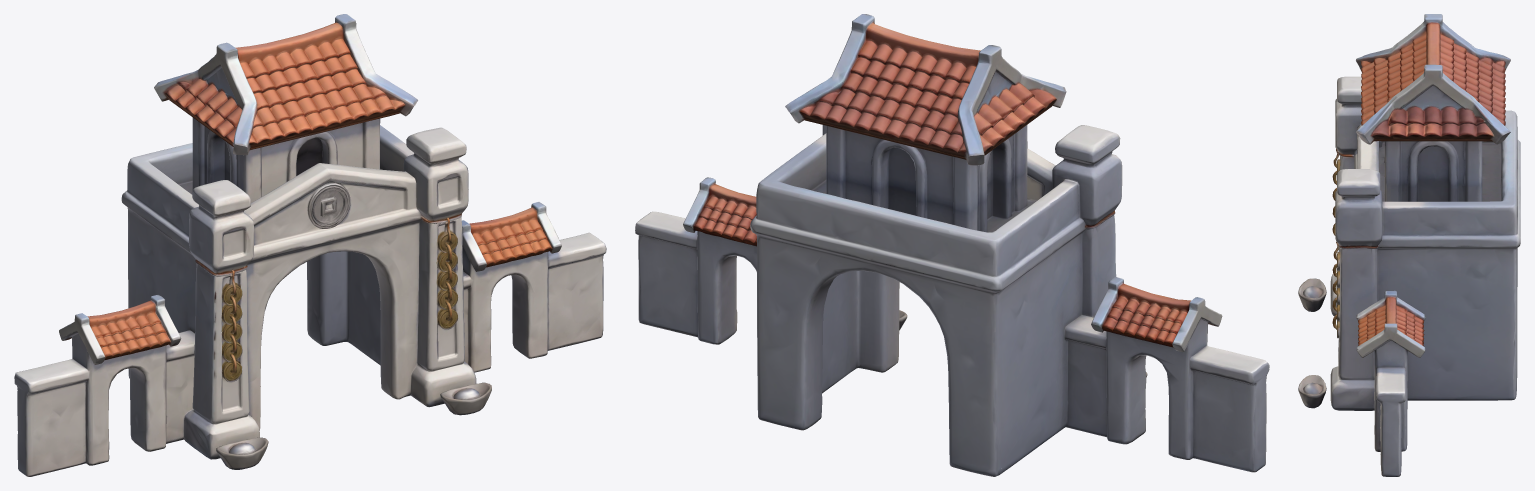
File: cong-lang-bac.1cf8ddd7.glb
The picture shows the model from 3 angles, left to right: view 1: azimuth 30°, elevation 25°; view 2: azimuth 150°, elevation 25°; view 3: azimuth 270°, elevation 25°; orthographic projection. The views are drawn at different scales.
Visible parts, largest first — view 1: tripo_node_dccabd12-5fb9-401d-8ad4-54225830297c; view 2: tripo_node_dccabd12-5fb9-401d-8ad4-54225830297c; view 3: tripo_node_dccabd12-5fb9-401d-8ad4-54225830297c.
Boxes of the visible parts, x1=… form: tripo_node_dccabd12-5fb9-401d-8ad4-54225830297c: x1=14, y1=14, x2=606, y2=476; tripo_node_dccabd12-5fb9-401d-8ad4-54225830297c: x1=635, y1=14, x2=1269, y2=476; tripo_node_dccabd12-5fb9-401d-8ad4-54225830297c: x1=1298, y1=14, x2=1520, y2=476.
Bounding box in the file's own units: 0.9795 × 0.5763 × 0.3706.
1 material, 1 textured.
